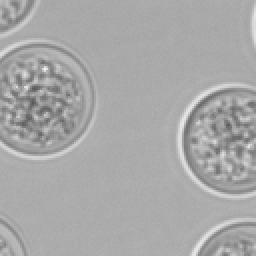picoshell: (0, 40, 94, 158), (176, 84, 254, 196), (190, 218, 254, 254), (0, 214, 26, 254)
